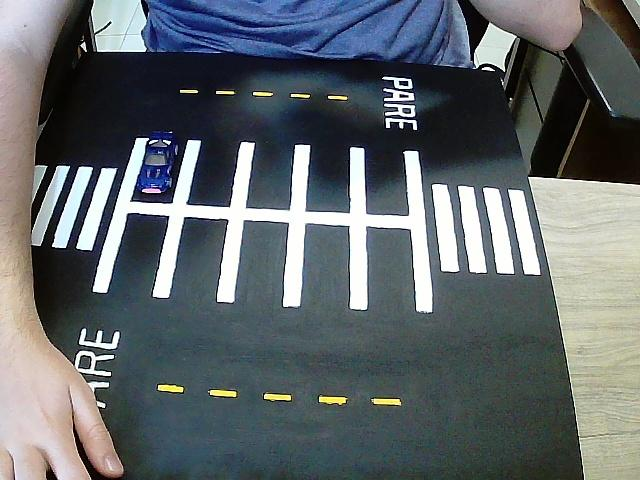Carro: (136, 131, 179, 195)
